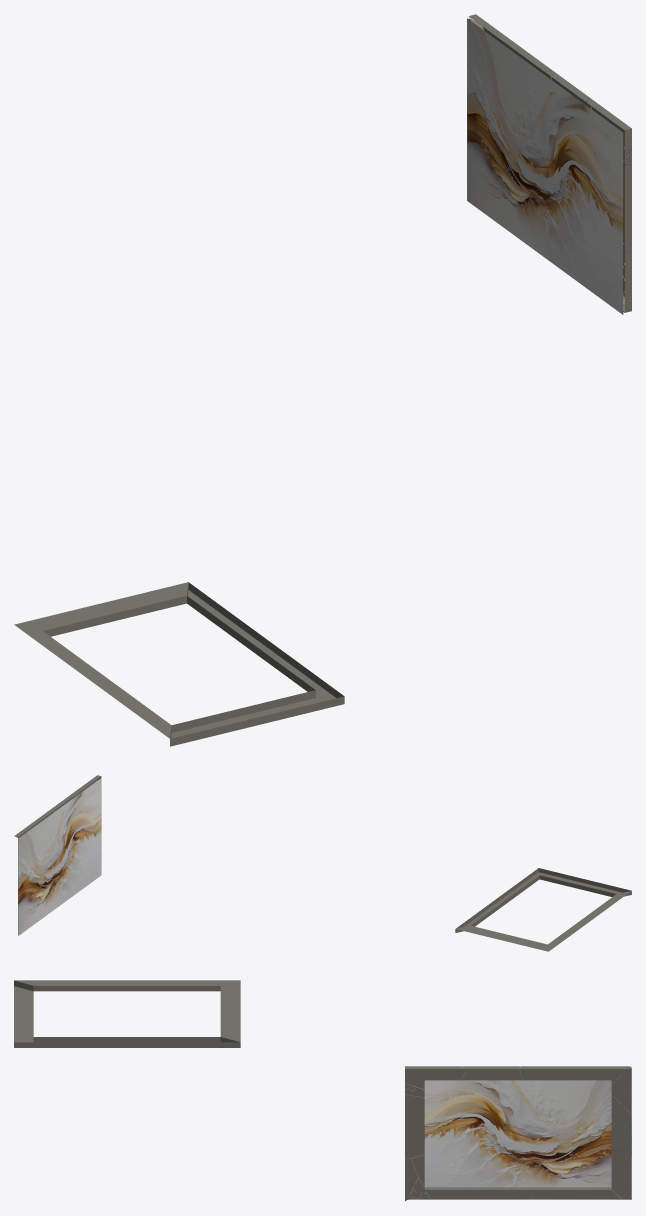
File: painting_2.glb
3 renders of one model, top to bottom at view 1: azimuth 30°, elevation 25°; view 2: azimuth 150°, elevation 25°; view 3: azimuth 270°, elevation 25°, orthographic. The views are drawn at different scales.
Visible parts, largest first — view 1: Plane.005, Plane.004, Plane.005_cell, Plane.005_cell.003, Plane.005_cell.001, Plane.005_cell.002_cell.002, Plane.005_cell.002_cell, Plane.005_cell.002_cell.001; view 2: Plane.005, Plane.004; view 3: Plane.005, Plane.004, Plane.005_cell.001, Plane.005_cell.003, Plane.005_cell, Plane.004_cell.002, Plane.004_cell.004, Plane.004_cell, Plane.004_cell.010, Plane.004_cell.005, Plane.004_cell.012, Plane.004_cell.013 (+5 smaller).
Boxes of the visible parts, x1,y1,x2,y2 form: Plane.005: (467, 18, 623, 314); Plane.004: (14, 582, 344, 746); Plane.005_cell: (537, 72, 623, 217); Plane.005_cell.003: (467, 95, 540, 254); Plane.005_cell.001: (538, 153, 623, 314); Plane.005_cell.002_cell.002: (502, 71, 537, 145); Plane.005_cell.002_cell: (467, 19, 509, 89); Plane.005_cell.002_cell.001: (467, 58, 503, 121); Plane.005: (18, 778, 101, 935); Plane.004: (455, 868, 631, 951); Plane.005: (405, 1067, 631, 1199); Plane.004: (14, 980, 240, 1047); Plane.005_cell.001: (408, 1128, 527, 1199); Plane.005_cell.003: (525, 1123, 631, 1199); Plane.005_cell: (407, 1077, 530, 1129); Plane.004_cell.002: (520, 1066, 629, 1084); Plane.004_cell.004: (411, 1154, 532, 1198); Plane.004_cell: (405, 1095, 424, 1158); Plane.004_cell.010: (405, 1066, 466, 1089); Plane.004_cell.005: (532, 1187, 620, 1198); Plane.004_cell.012: (610, 1149, 631, 1198); Plane.004_cell.013: (611, 1094, 631, 1150).
Size of the model in its own units: 12.98 by 4.12 by 13.09.
Materials: 2 (1 with a texture image).
